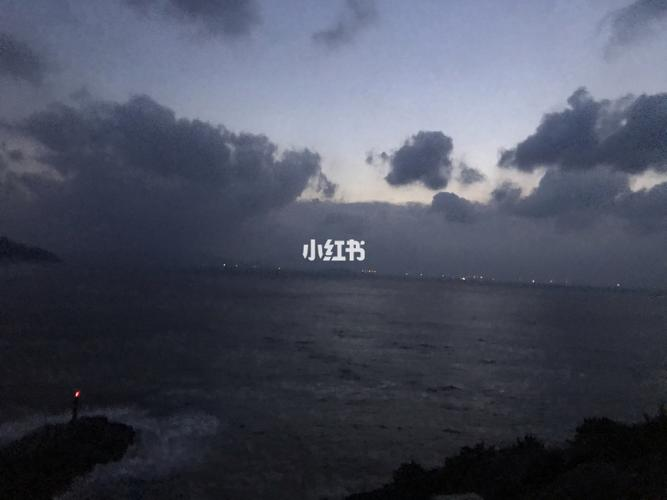mountain: (19, 91, 352, 295)
sea_river: (19, 250, 639, 470)
